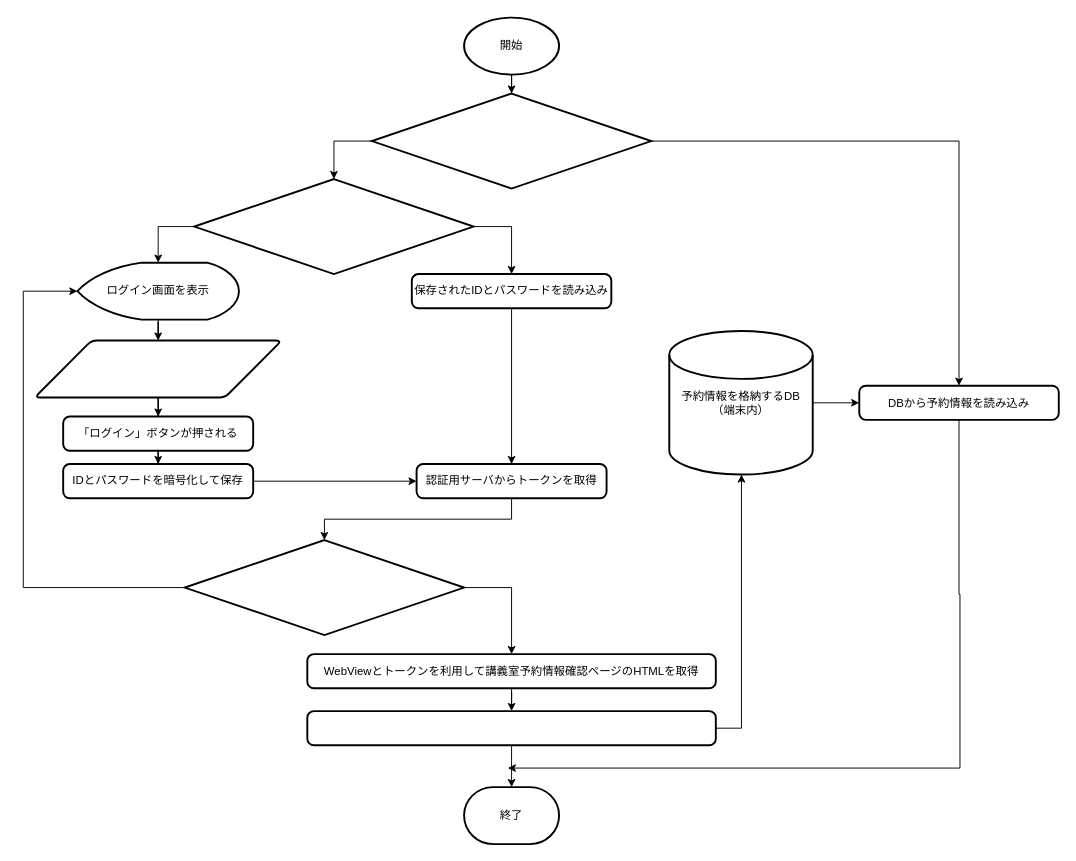
Some shapes in this 1076 by 861 pixel diagram are drawn without their labels. The shapes that lost their labels are listed below. From the top down, each one's centre as x and y in pixels, then its label:
At point 511,140: "DBに今日の予約情報あり？".
At point 333,226: "IDとパスワードが保存済み？".
At point 157,368: "IDとパスワードをユーザが入力".
At point 324,587: "トークン取得成功？".
At point 511,728: "Jsoupを用いて情報を抽出".
